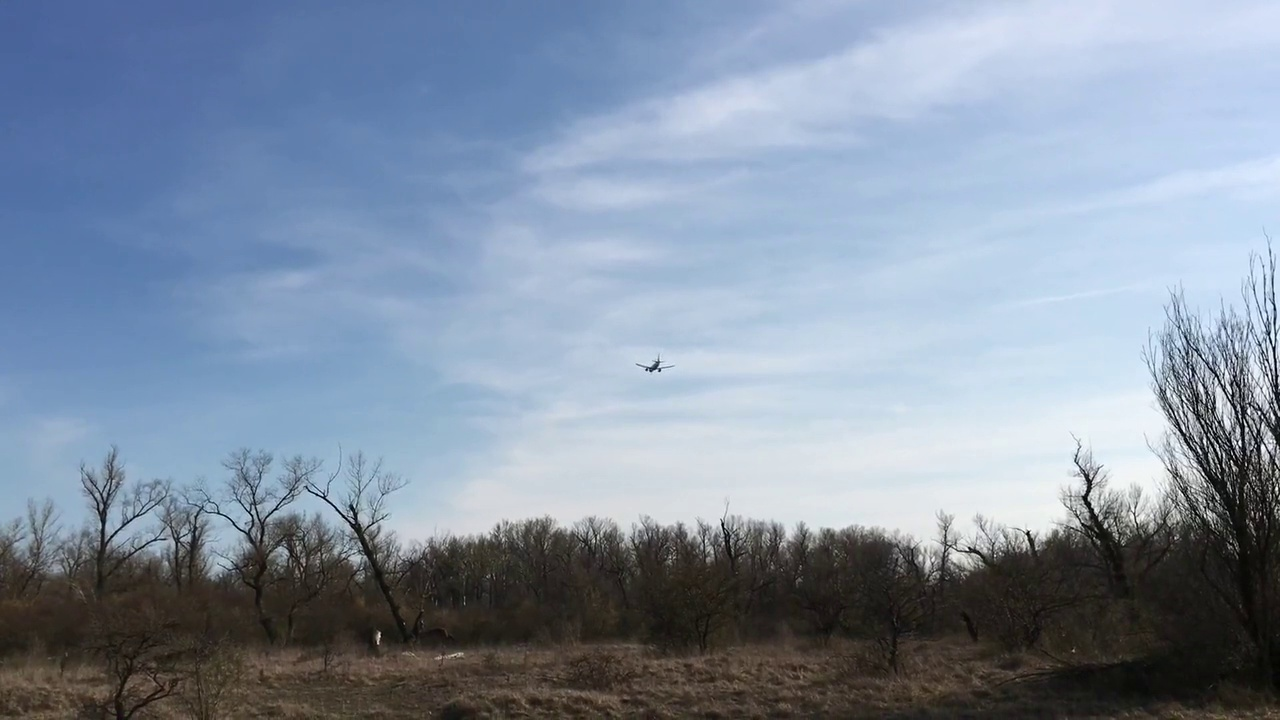plane: (634, 353, 674, 372)
